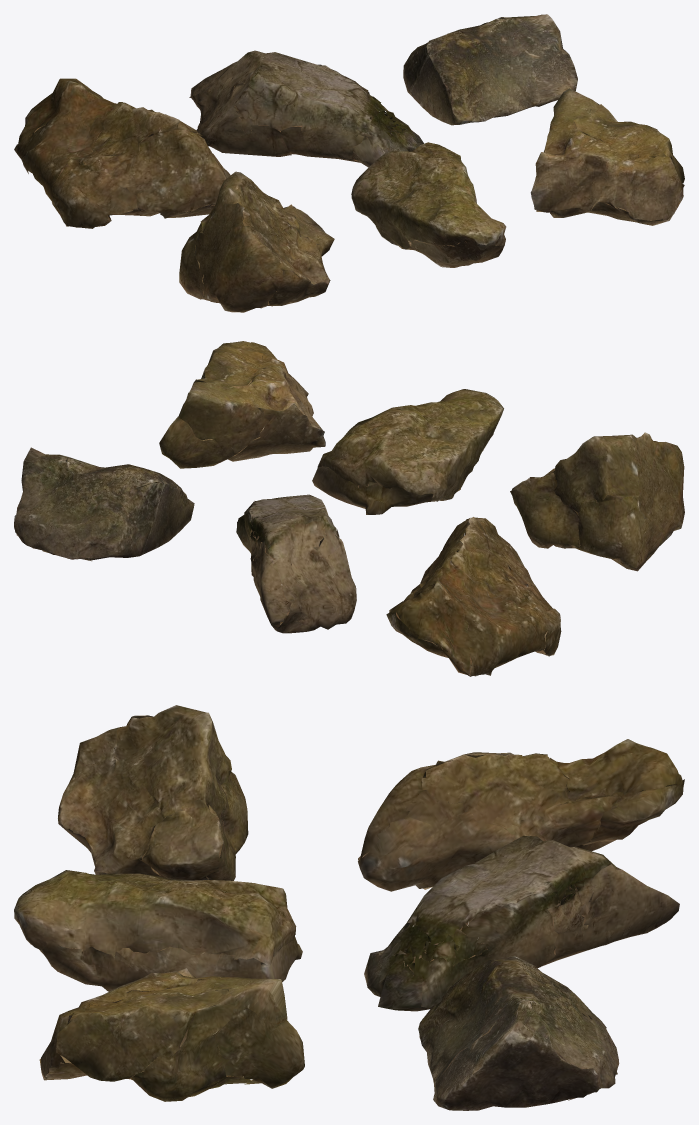
Rendered from pedras_musgo_01.glb.
3 views of the same model, one above another, from view 1: azimuth 30°, elevation 25°; view 2: azimuth 150°, elevation 25°; view 3: azimuth 270°, elevation 25° (orthographic). The views are drawn at different scales.
Parts seen in each view (by area): view 1: rock_moss_set_01_rock01; view 2: rock_moss_set_01_rock01; view 3: rock_moss_set_01_rock01.
Boxes of the visible parts, x1,y1,x2,y2 form: rock_moss_set_01_rock01: (14,14,684,312); rock_moss_set_01_rock01: (14,341,684,676); rock_moss_set_01_rock01: (14,705,684,1110).
Bounding box in the file's own units: 7.98 × 1.77 × 6.95.
1 material, 1 textured.
